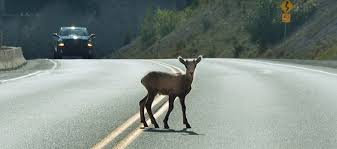deer: (140, 55, 200, 130)
